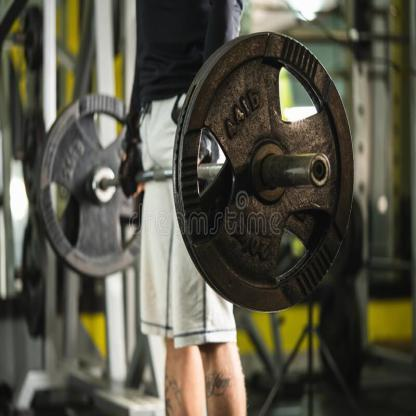barbell: (44, 32, 354, 310)
